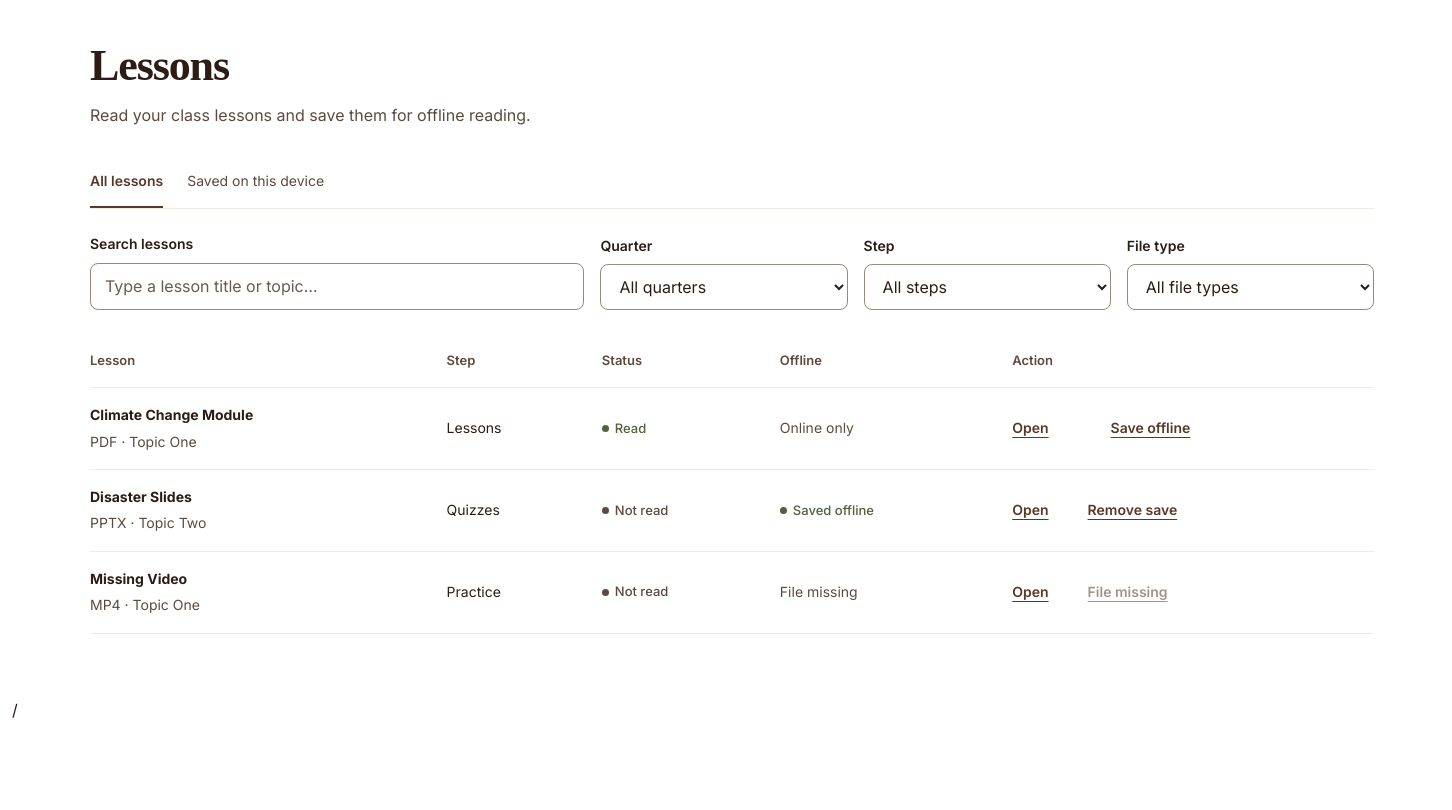
it: MaterialsHub (learner) › saves and removes lessons for offline reading
This screenshot has width=1452, height=810.
Expected: the text "Climate Change Module" is shown, [90, 406, 253, 423]
Step 1. Click the button "Save offline" → (1139, 429), box [1088, 407, 1190, 451]
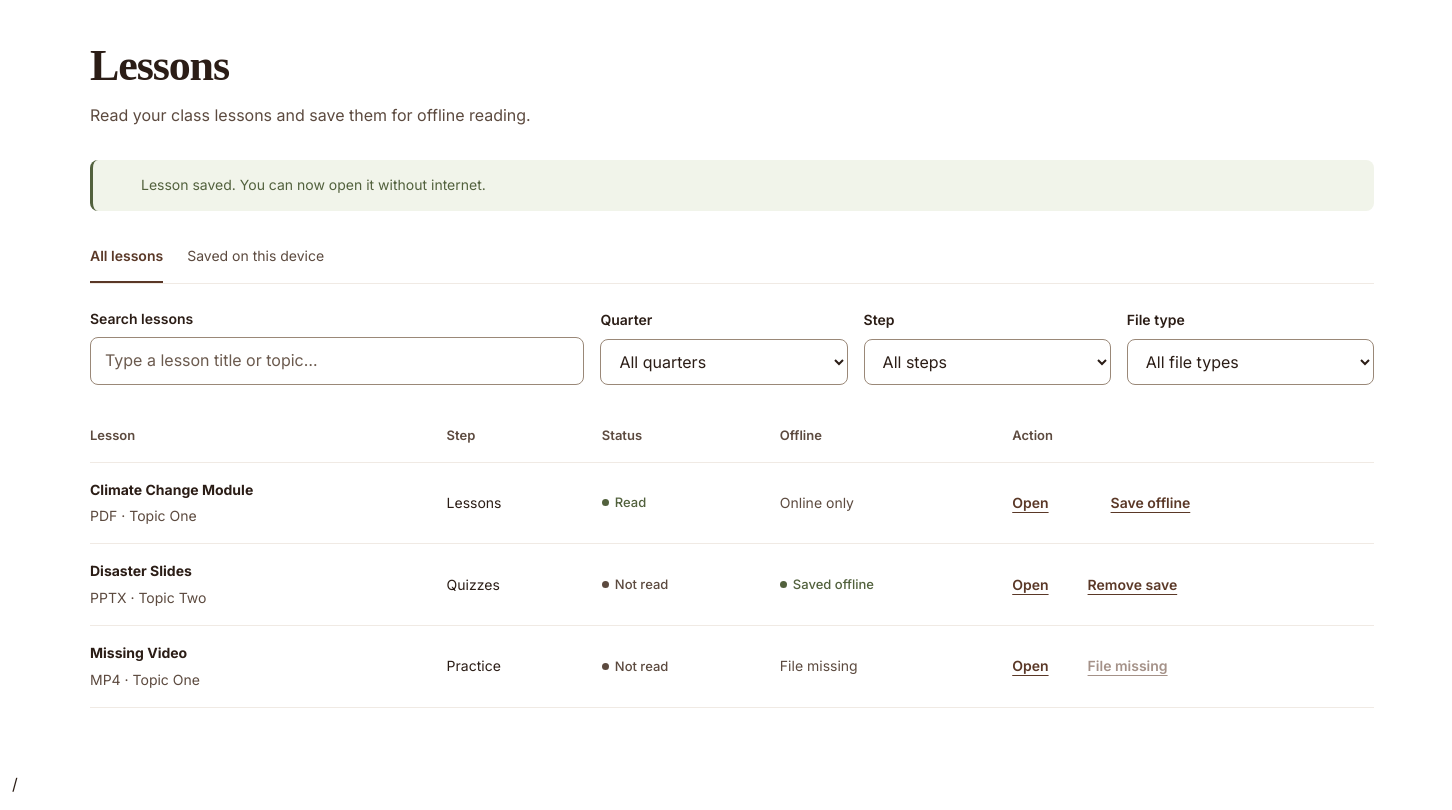
Expected: the text "Lesson saved. You can now open it without internet." is shown, [141, 174, 486, 197]
Step 2. Click the button "Remove save" → (1132, 585), box [1088, 563, 1177, 607]
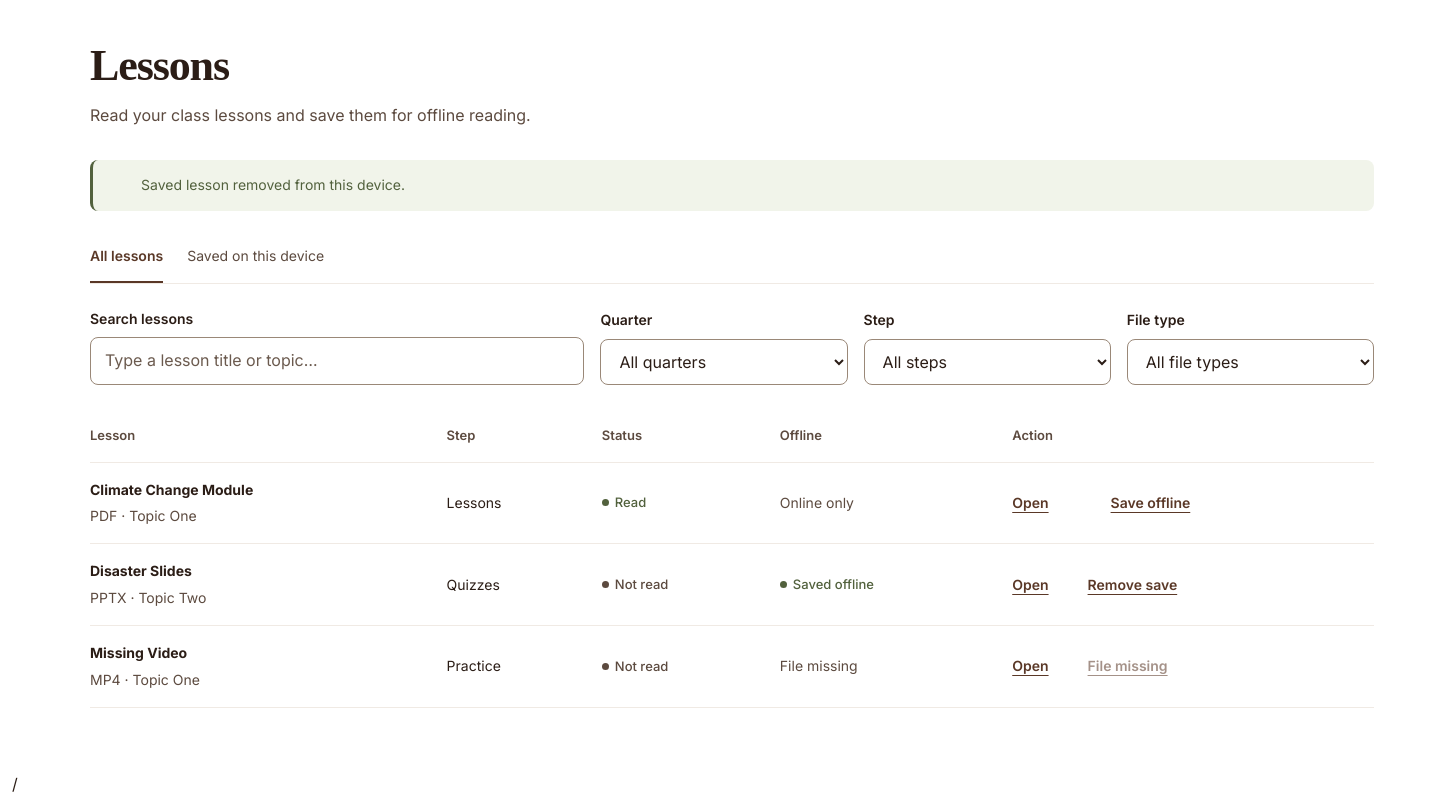
Expected: the text "Saved lesson removed from this device." is shown, [141, 174, 405, 197]
